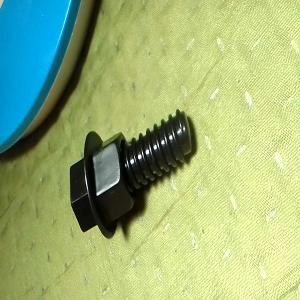parafuso: (68, 109, 193, 238)
